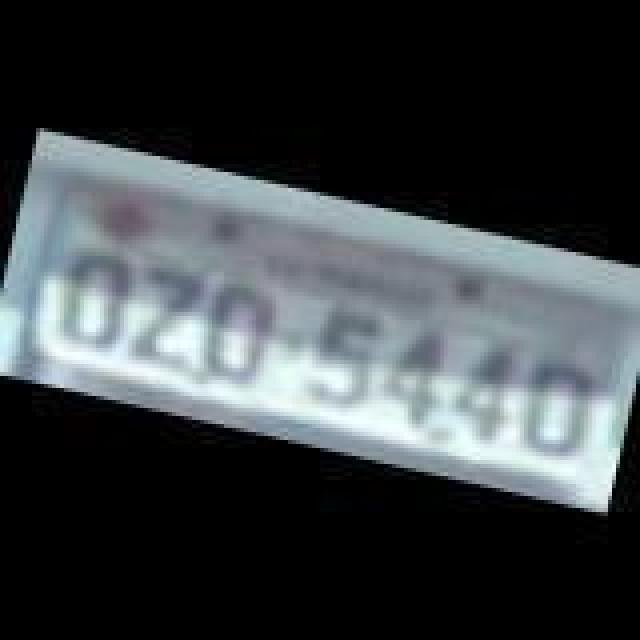4: (374, 318, 458, 434), (440, 336, 520, 448)
5: (302, 300, 386, 404)
O: (506, 346, 598, 470), (192, 278, 280, 394), (54, 240, 138, 352)
Z: (128, 260, 208, 372)
